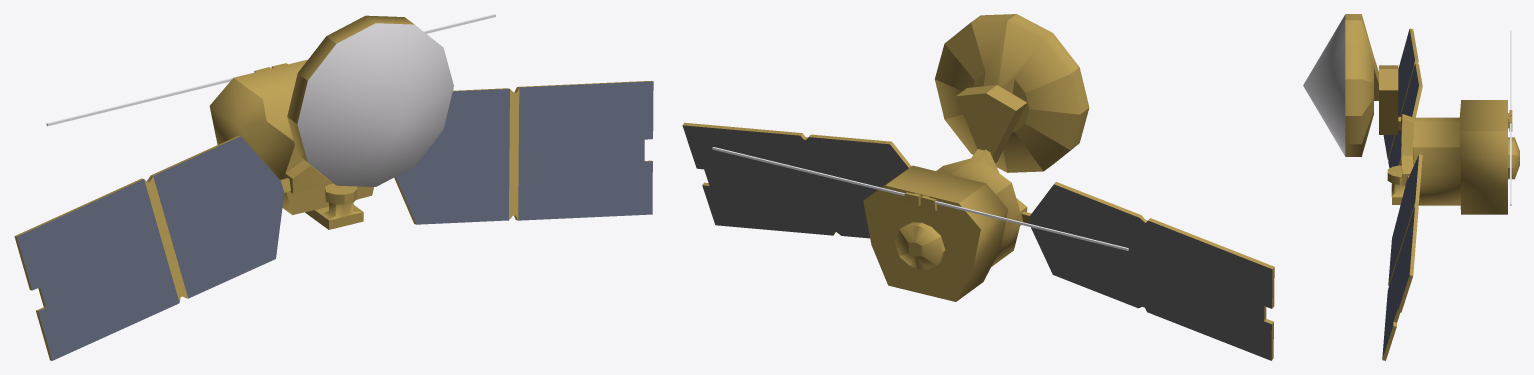
File: mars-reconnaissance.glb
The picture shows the model from 3 angles, left to right: view 1: azimuth 30°, elevation 25°; view 2: azimuth 150°, elevation 25°; view 3: azimuth 270°, elevation 25°; orthographic projection. The views are drawn at different scales.
Visible parts, largest first — view 1: MRO; view 2: MRO; view 3: MRO.
Boxes of the visible parts, box(x1,y1,x2,y2) form: MRO: box(14, 14, 653, 360); MRO: box(682, 14, 1274, 360); MRO: box(1303, 14, 1519, 360).
Size of the model in its own units: 9.46 by 4.01 by 3.52.
2 materials, 2 textured.
